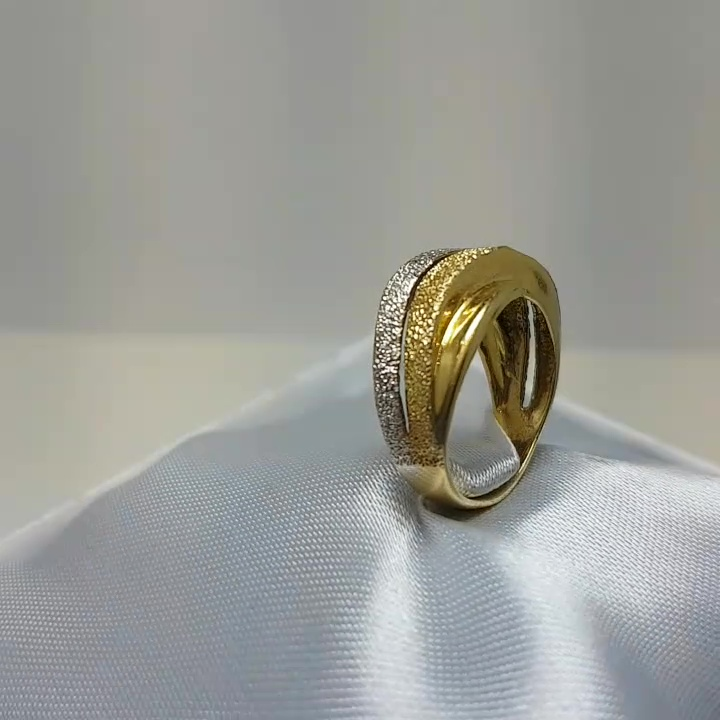Ring 5: (354, 226, 581, 539)
